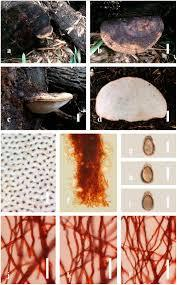Ganoderma - Fruit Body: (94, 75, 169, 123), (97, 17, 165, 54), (23, 90, 74, 115), (35, 26, 51, 39)
